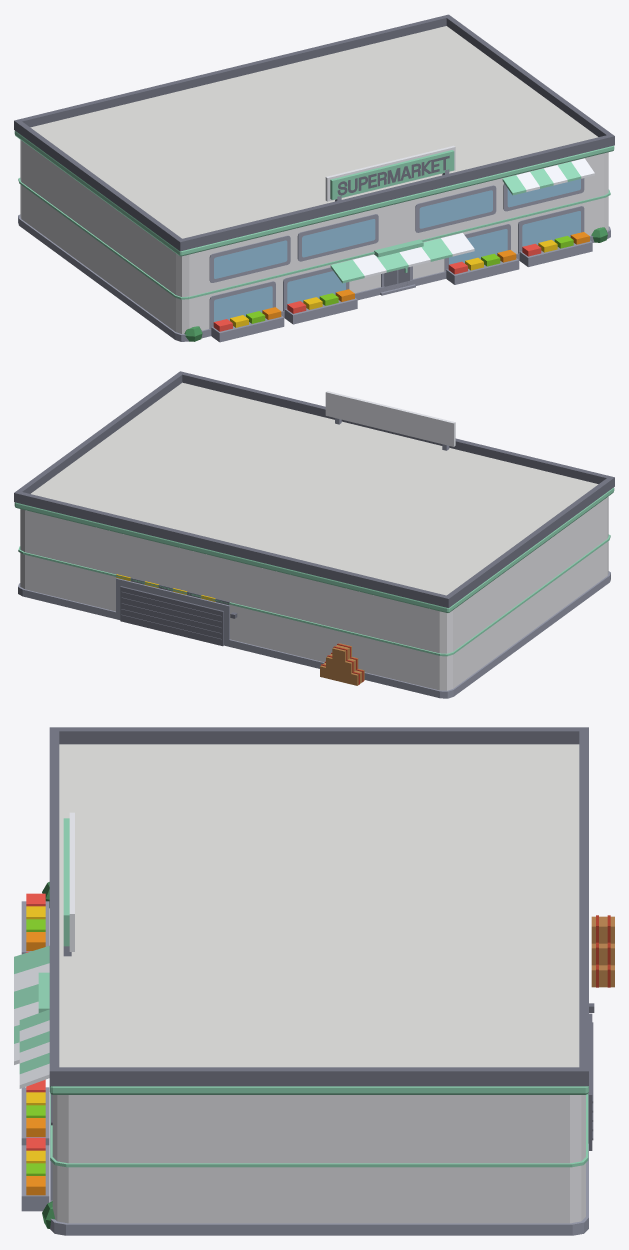
Rendered from supermarket-3x2-t3-tone-a.glb.
The picture shows the model from 3 angles, top to bottom: view 1: azimuth 30°, elevation 25°; view 2: azimuth 150°, elevation 25°; view 3: azimuth 270°, elevation 25°; orthographic projection. The views are drawn at different scales.
Parts seen in each view (by area): view 1: supermarket-3x2-t3-tone-a; view 2: supermarket-3x2-t3-tone-a; view 3: supermarket-3x2-t3-tone-a.
Part boxes in pixels (box(x1,y1,x2,y2)): supermarket-3x2-t3-tone-a: box(14, 14, 614, 342); supermarket-3x2-t3-tone-a: box(14, 371, 614, 698); supermarket-3x2-t3-tone-a: box(14, 727, 614, 1235).
Size of the model in its own units: 2.96 by 0.804 by 2.19.
1 material, 1 textured.
